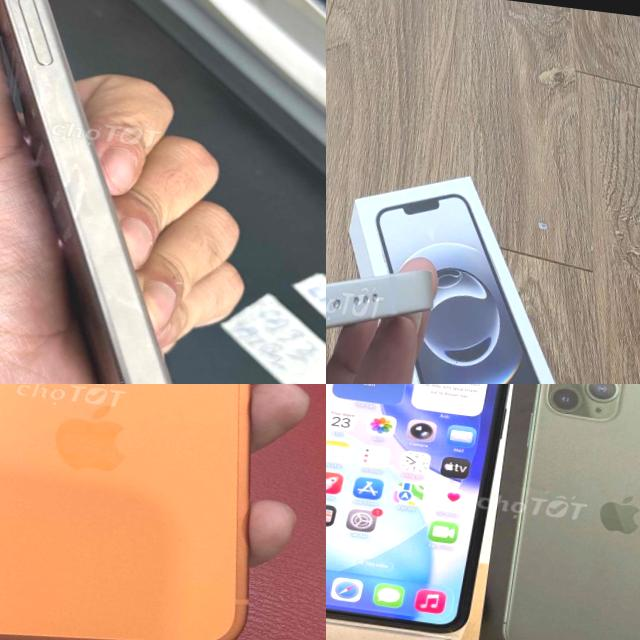gen_11: (326, 384, 520, 640)
gen_15: (0, 0, 266, 384)
gen_16: (326, 270, 433, 328)
gen_17: (0, 384, 316, 640)
